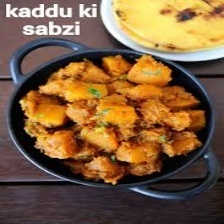dal: (107, 0, 224, 57)
